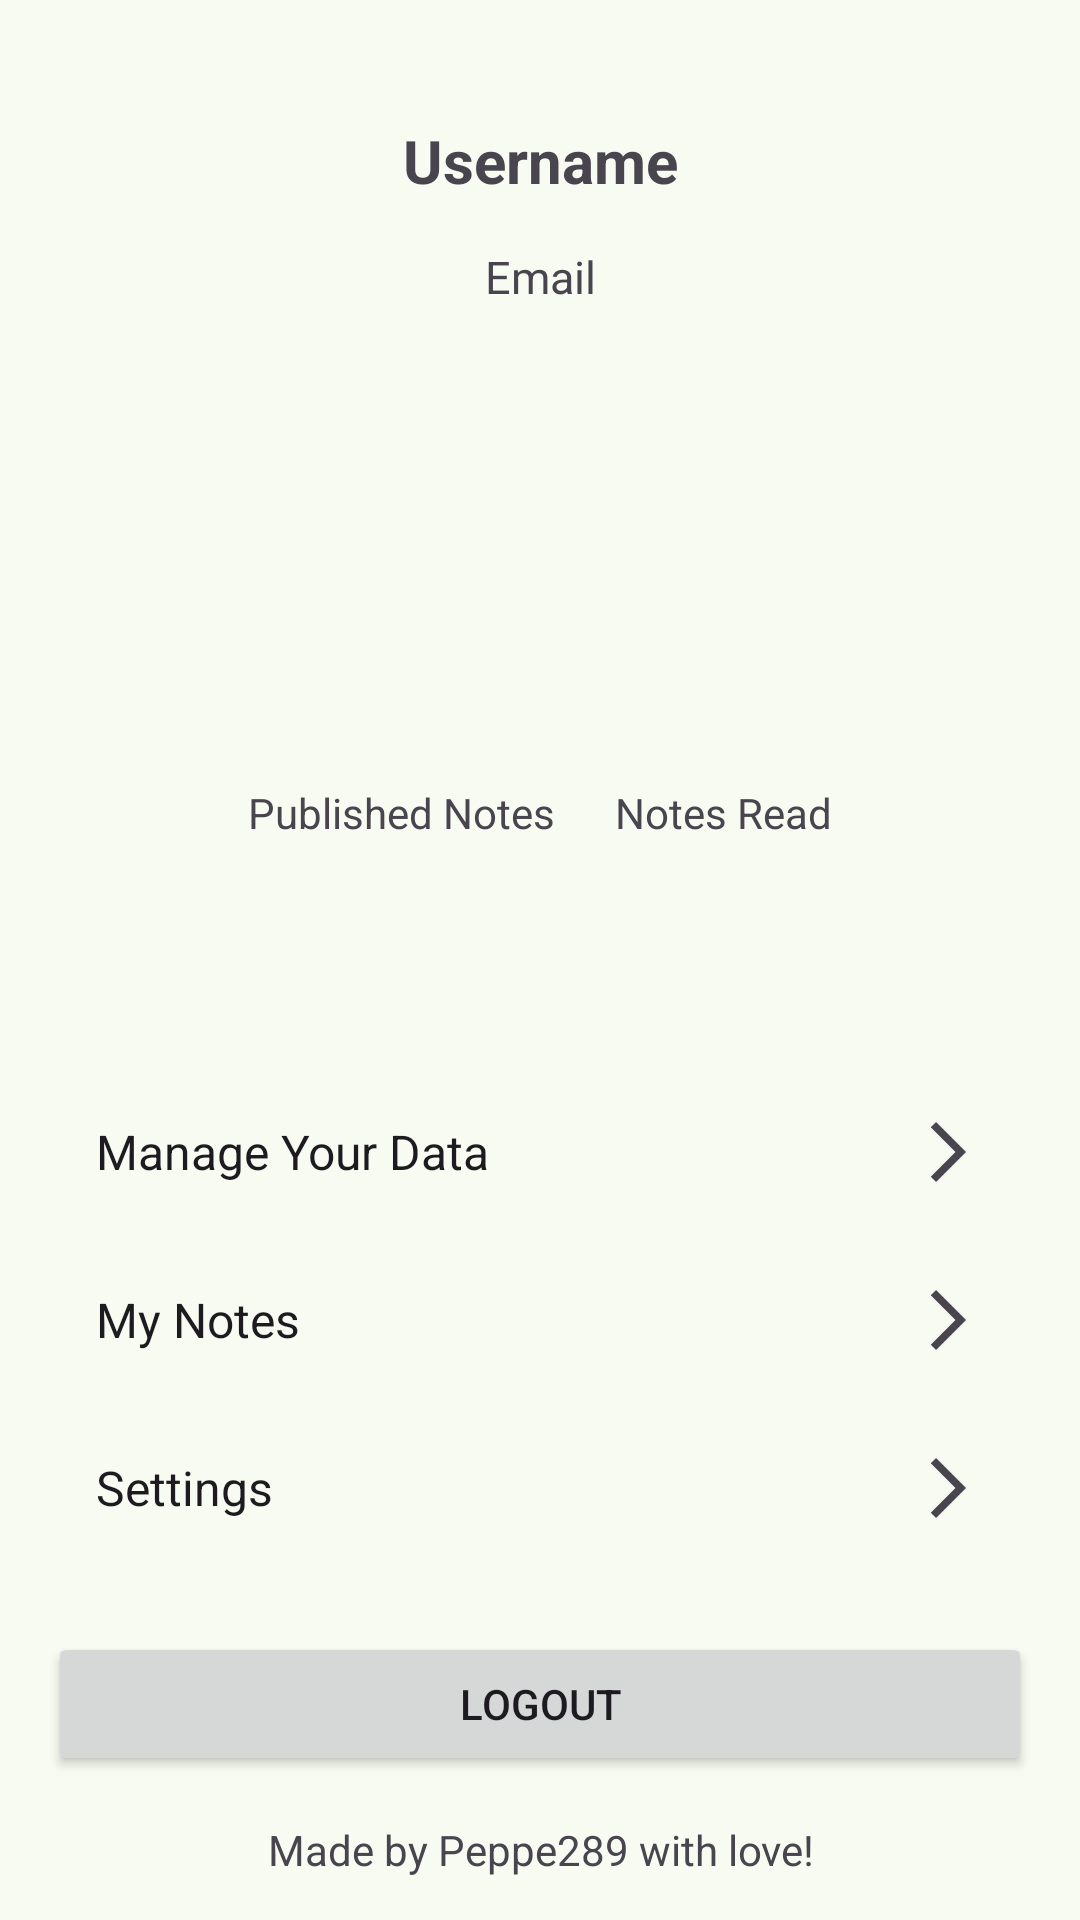

Icons on this 1080w x 1920h Android screen, each with the point to tap as (x,y):
arrow forward: (948,1152), (948,1320), (948,1488)
